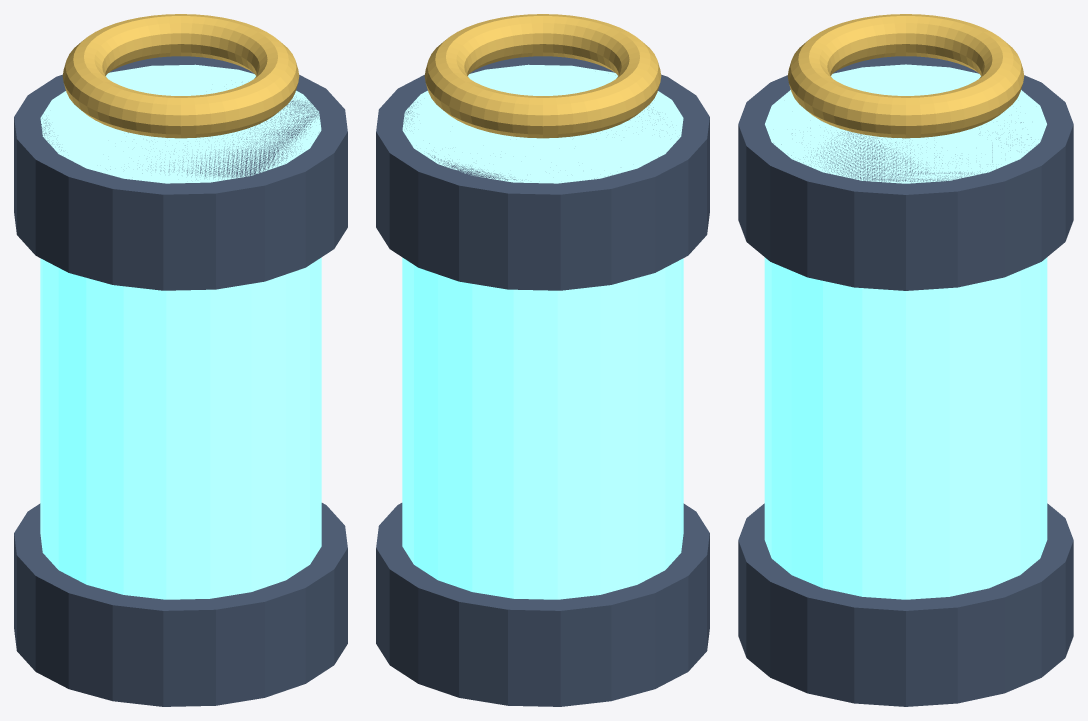
Rendered from item_shield_battery.glb.
3 views of the same model, side by side, from view 1: azimuth 30°, elevation 25°; view 2: azimuth 150°, elevation 25°; view 3: azimuth 270°, elevation 25° (orthographic).
Visible parts, largest first — view 1: Cylinder, Cylinder.002, Cylinder.001, Torus; view 2: Cylinder, Cylinder.002, Cylinder.001, Torus; view 3: Cylinder, Cylinder.002, Cylinder.001, Torus.
Part boxes in pixels (x1=…): Cylinder: x1=40, y1=64, x2=321, y2=599; Cylinder.002: x1=14, y1=56, x2=347, y2=290; Cylinder.001: x1=14, y1=503, x2=347, y2=706; Torus: x1=62, y1=14, x2=299, y2=138; Cylinder: x1=402, y1=64, x2=683, y2=599; Cylinder.002: x1=376, y1=56, x2=709, y2=290; Cylinder.001: x1=376, y1=503, x2=709, y2=706; Torus: x1=424, y1=14, x2=661, y2=138; Cylinder: x1=764, y1=64, x2=1047, y2=599; Cylinder.002: x1=738, y1=56, x2=1073, y2=290; Cylinder.001: x1=738, y1=503, x2=1073, y2=706; Torus: x1=787, y1=14, x2=1024, y2=138.
Bounding box in the file's own units: 0.19 × 0.362 × 0.19.
